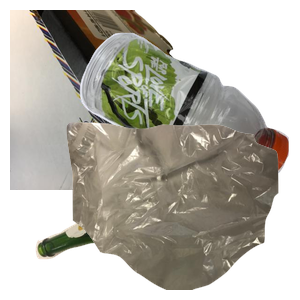cardboard: (10, 10, 238, 190)
glass: (33, 158, 246, 300)
plastic: (77, 30, 300, 198)
trash: (64, 120, 300, 300)
